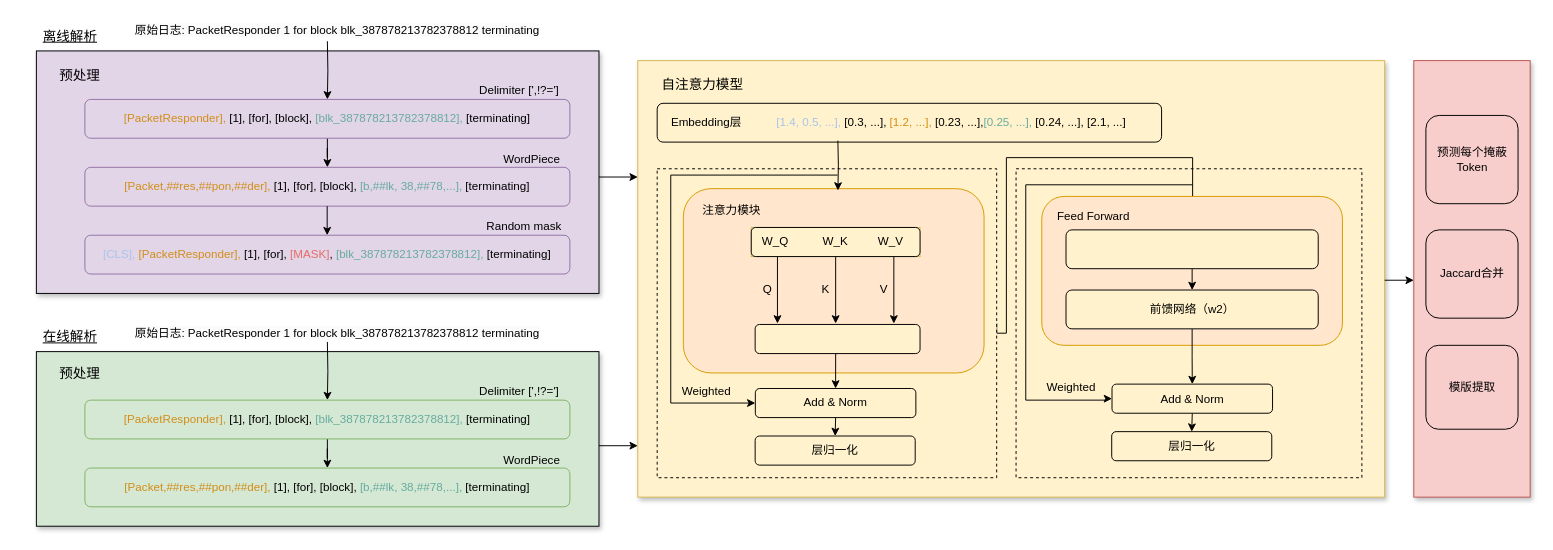
This 1553x550 diagram has some shape labels left out. The centre of each missing label's shape, as x and y in pixels:
"多头自注意力" belongs at point 837,338.
"带激活函数的前馈网络（w1）" belongs at point 1191,249.
